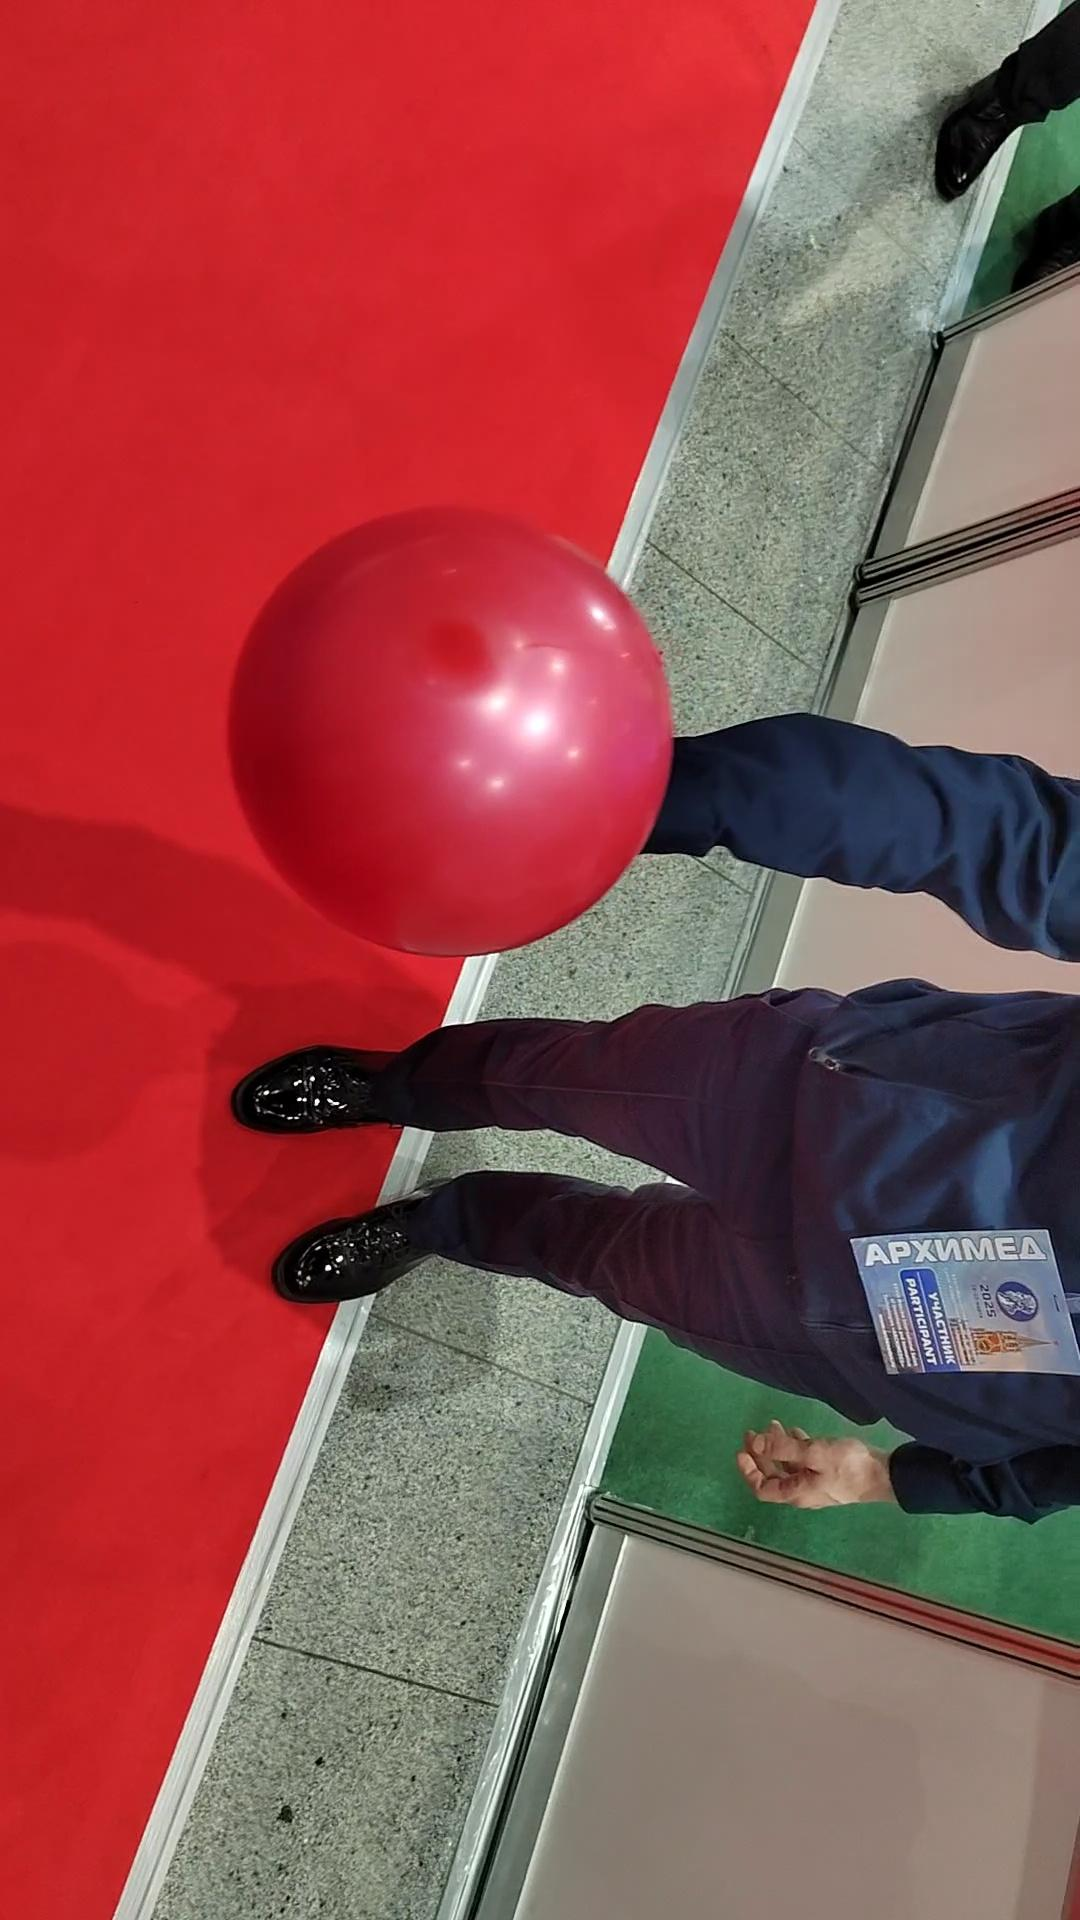red: (216, 495, 680, 961)
